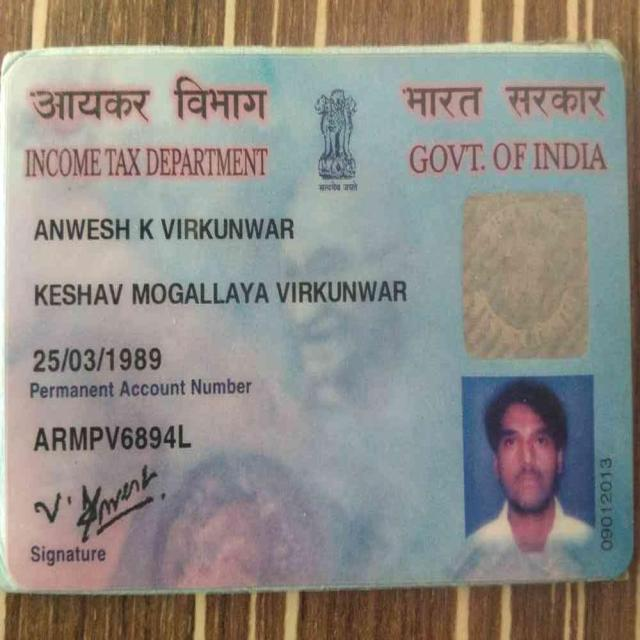pan_card: (7, 53, 623, 584)
